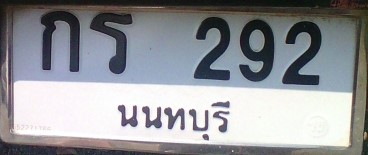txt01: (38, 9, 82, 72)
txt30: (88, 12, 134, 77)
